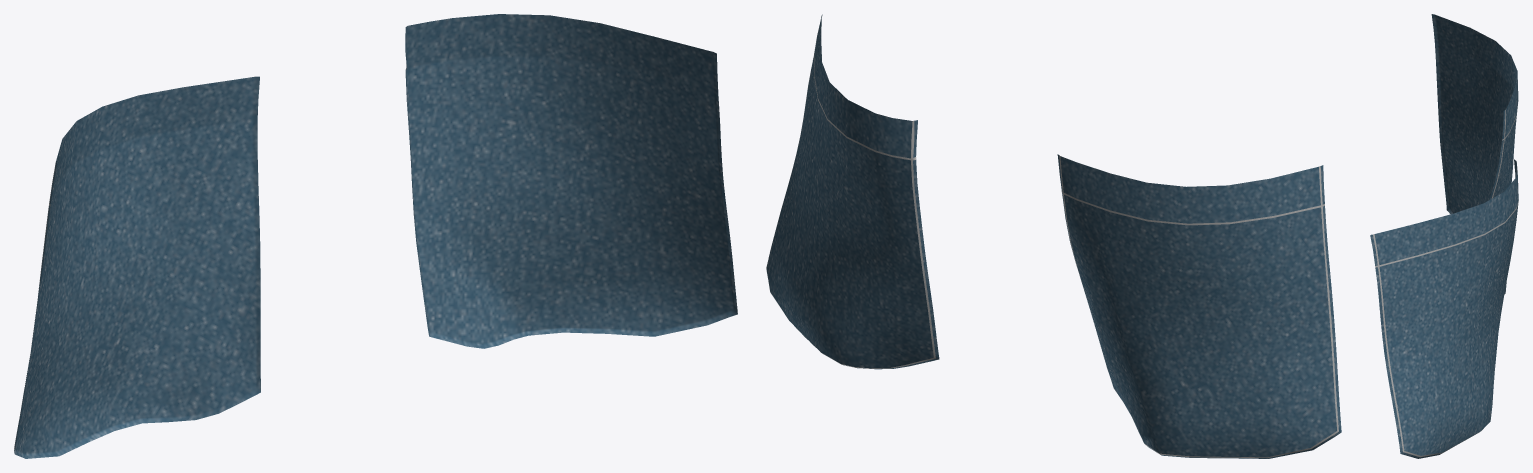
File: Pants_Pocket_BEHINDE.glb
3 renders of one model, left to right at view 1: azimuth 30°, elevation 25°; view 2: azimuth 150°, elevation 25°; view 3: azimuth 270°, elevation 25°, orthographic. The views are drawn at different scales.
Parts seen in each view (by area): view 1: Pants_Pocket_BEHINDE.001; view 2: Pants_Pocket_BEHINDE.001, Pants_Rope_Pocket_BEHIND.001; view 3: Pants_Pocket_BEHINDE.001, Pants_Rope_Pocket_BEHIND.001.
Part boxes in pixels (x1,y1,x2,y2): Pants_Pocket_BEHINDE.001: [14, 14, 737, 458]; Pants_Pocket_BEHINDE.001: [766, 14, 1341, 458]; Pants_Rope_Pocket_BEHIND.001: [766, 35, 1338, 457]; Pants_Pocket_BEHINDE.001: [1370, 14, 1518, 458]; Pants_Rope_Pocket_BEHIND.001: [1373, 105, 1518, 457].
Size of the model in its own units: 0.6012 by 0.274 by 0.1573.
2 materials, 2 textured.
